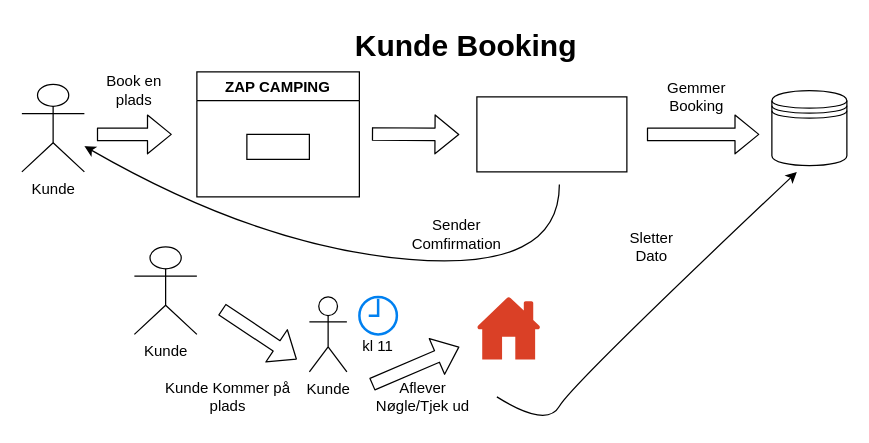
The diagram is 869 pixels wide and 443 high, and some of its shapes have lost their labels. The shapes that lost their labels are listed below. From the top down, each one's centre as x and y in pixels, then its label:
At point (277, 146): "Booking".
At point (551, 134): "Booking Comfirm".
